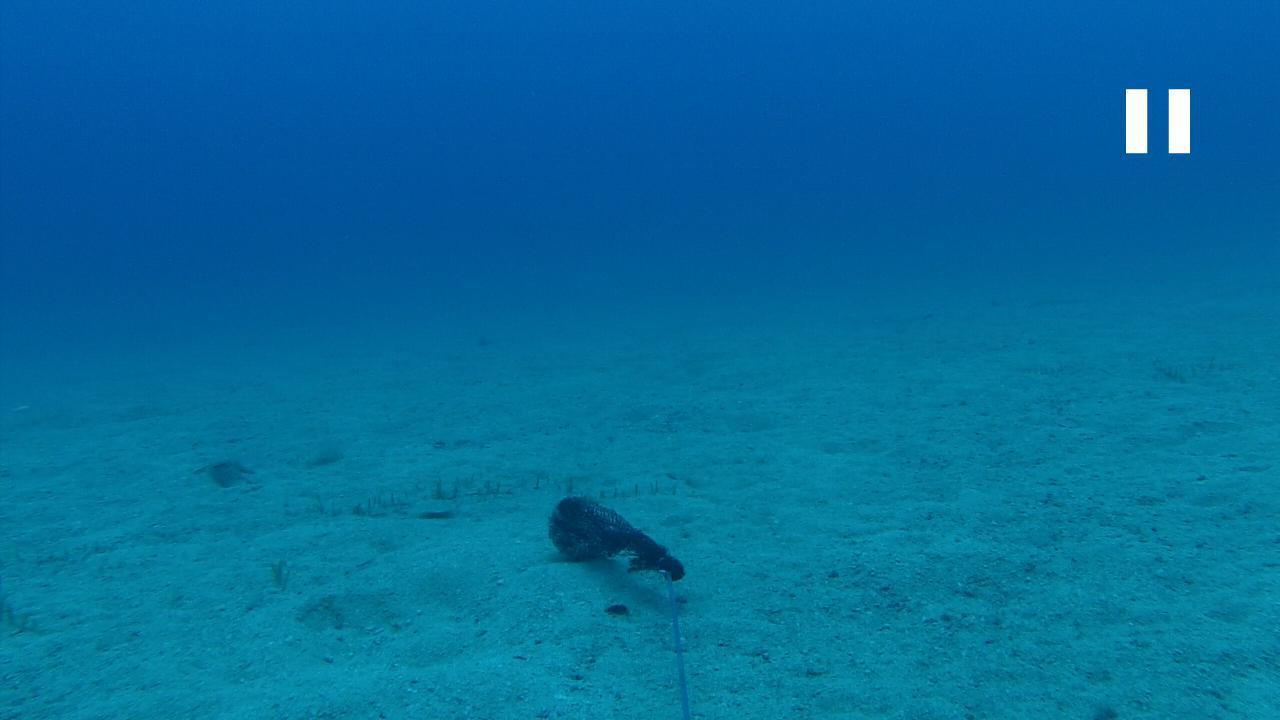bothus: (401, 495, 458, 521)
